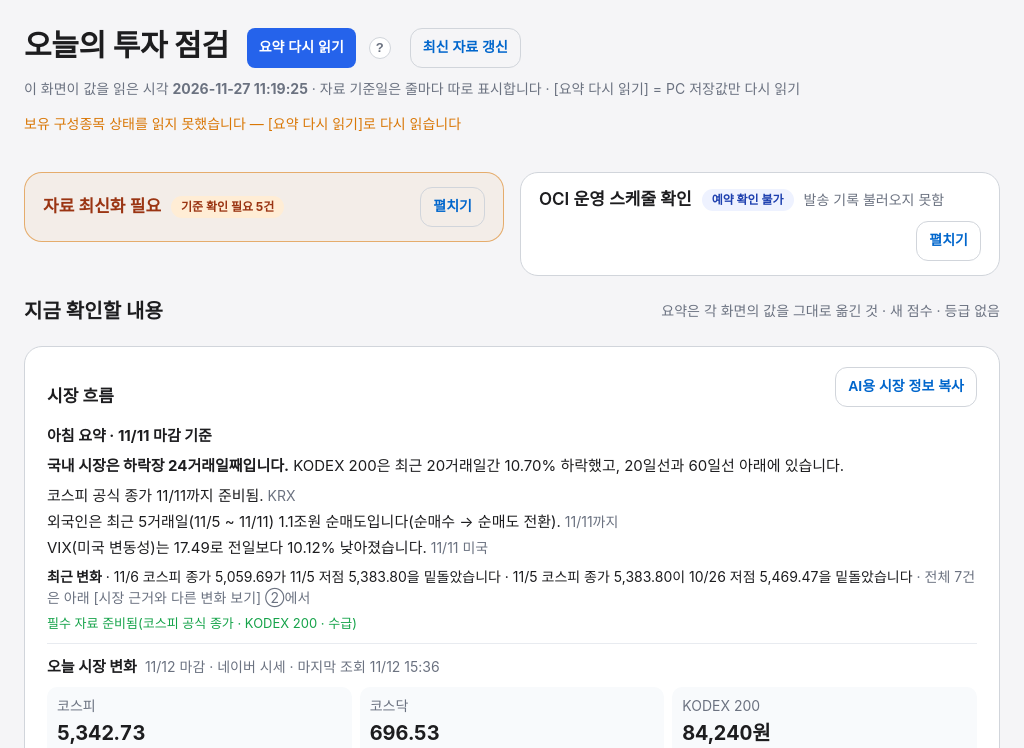
보완 R1 — 「시장 흐름」 맨 위 '지금 시장'(빠른 시세 3칸 · 흐름 문장) › 검증자 F10 — [요약 다시 읽기]에서 아침 기준만 실패하면 남은 이전 응답의 당일 판정 · 저장 시점을 쓰지 않는다(시장 판정 · 날짜만 + 카드 아래 안내)
Click the button "요약 다시 읽기". click: coordinates (301, 48)
box: [247,28,356,68]
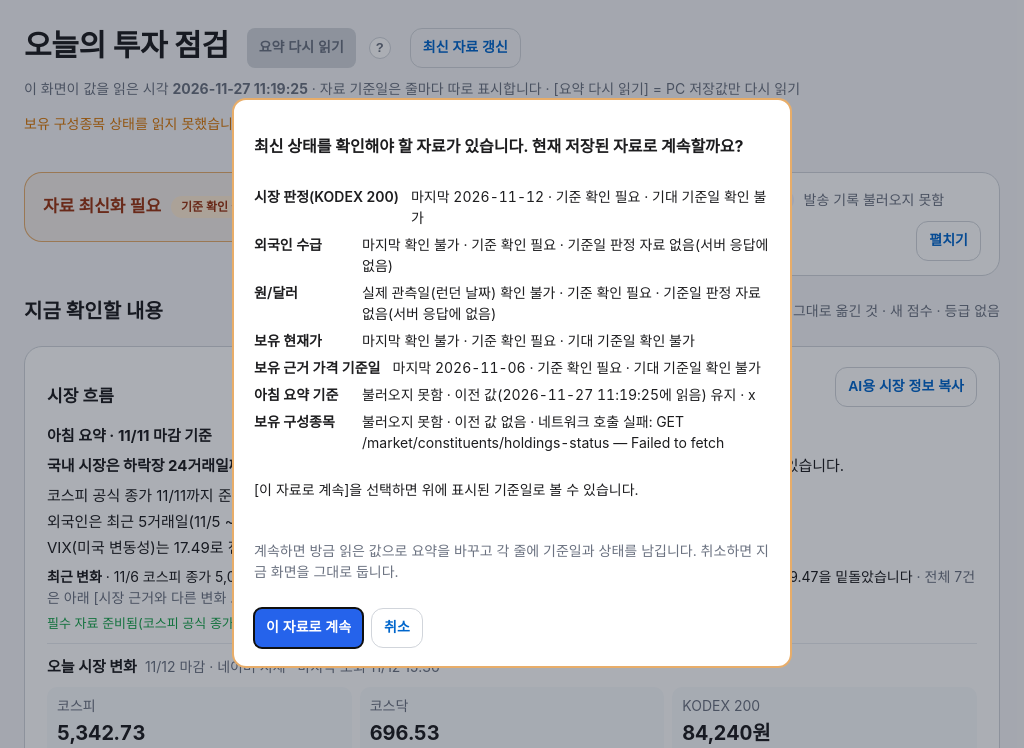
Click the button "이 자료로 계속". click: coordinates (309, 628)
box: [254,608,363,648]
(page scrolled)
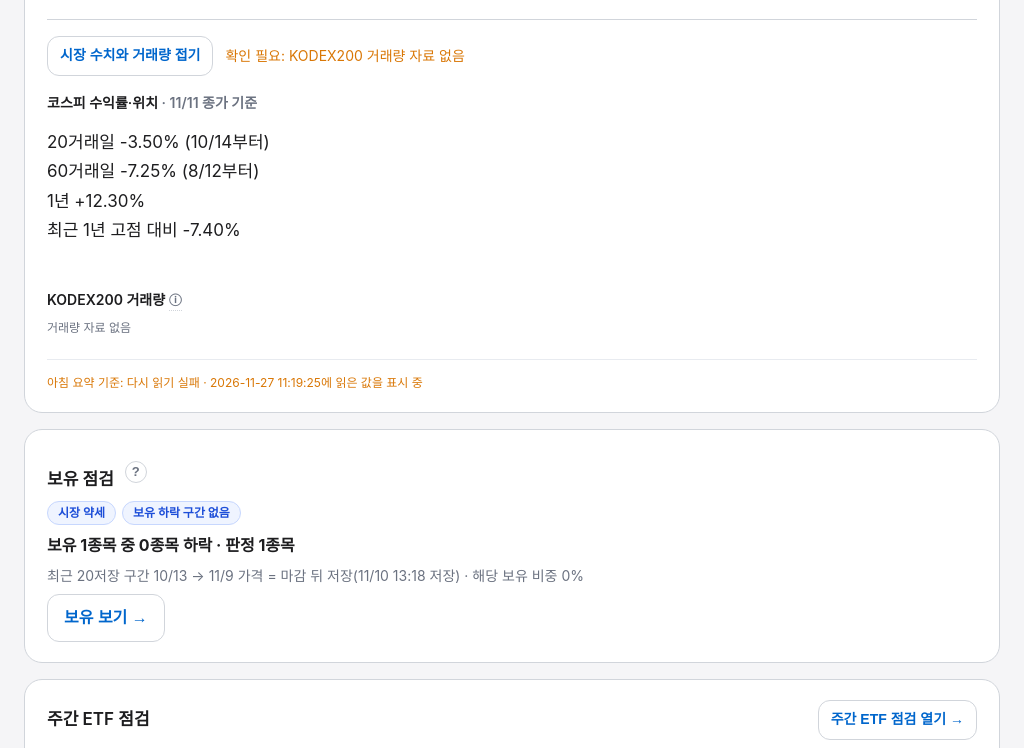
Expected: the text with class "tc-sum-stale" shows "아침 요약 기준: 다시 읽기 실패", [47,376,423,390]
